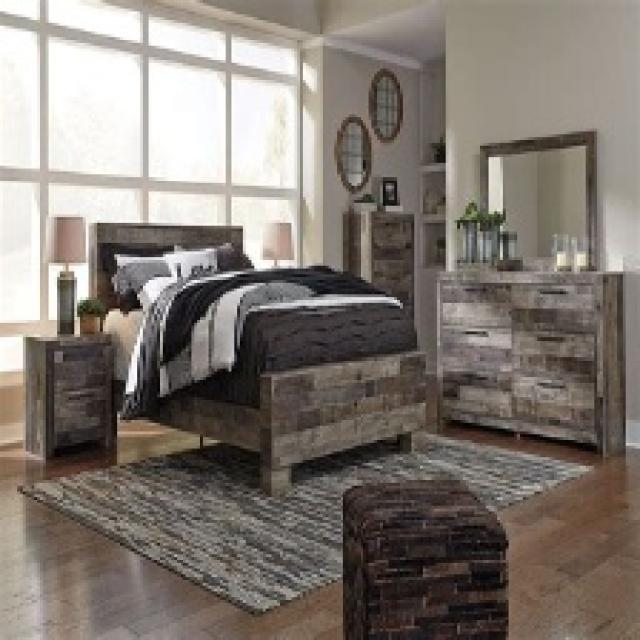Bed: (88, 220, 426, 497)
